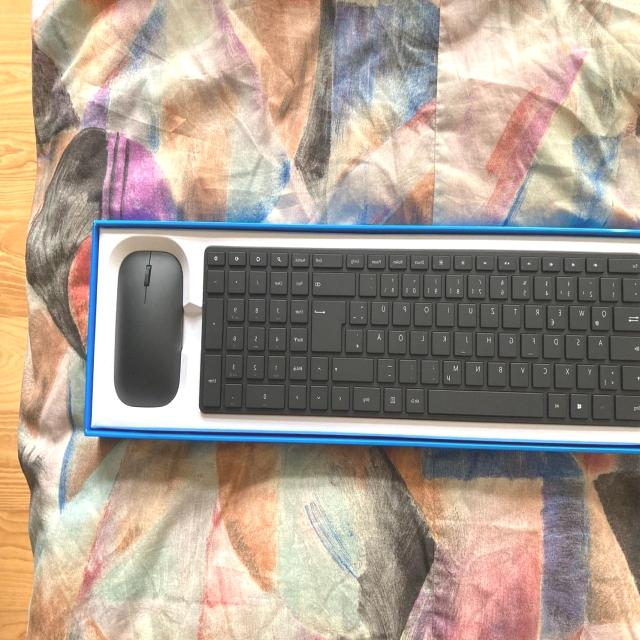0: (404, 271, 424, 296)
1: (602, 275, 622, 301)
2: (580, 275, 600, 300)
3: (558, 274, 578, 299)
4: (536, 274, 556, 298)
5: (514, 273, 534, 299)
6: (491, 272, 511, 297)
7: (469, 272, 489, 296)
8: (448, 271, 466, 297)
9: (426, 271, 445, 296)
a: (590, 332, 610, 358)
accent: (362, 270, 380, 295)
ae: (369, 327, 387, 352)
alt-left: (549, 390, 569, 417)
altgr-right: (407, 386, 427, 412)
b: (489, 359, 509, 385)
c: (534, 360, 554, 386)
caret: (625, 275, 640, 299)
comma: (423, 357, 442, 383)
d: (545, 331, 565, 357)
del: (314, 269, 358, 294)
e: (549, 302, 569, 328)
enter: (314, 297, 348, 351)
f: (523, 330, 543, 356)
g: (501, 330, 520, 356)
h: (478, 330, 497, 355)
hash: (347, 326, 365, 352)
i: (438, 300, 456, 325)
j: (456, 329, 475, 355)
k: (433, 328, 453, 354)
keyboard: (197, 238, 640, 432)
l: (412, 328, 430, 354)
less: (602, 362, 622, 388)
m: (445, 358, 465, 384)
minus: (379, 357, 398, 381)
n: (467, 358, 487, 384)
o: (416, 299, 435, 325)
oe: (390, 328, 409, 353)
p: (394, 298, 413, 324)
plus: (352, 299, 370, 324)
point: (401, 357, 420, 381)
q: (593, 303, 615, 329)
r: (527, 302, 547, 328)
s: (567, 332, 587, 358)
shift-left: (624, 363, 640, 389)
shift-lock: (612, 333, 640, 359)
shift-right: (334, 354, 376, 380)
space: (429, 388, 546, 416)
ss: (383, 271, 401, 295)
strg-left: (616, 392, 640, 420)
strg-right: (353, 385, 382, 411)
t: (505, 301, 524, 326)
tab: (616, 304, 640, 330)
u: (459, 300, 479, 326)
ue: (373, 298, 392, 324)
v: (512, 360, 531, 386)
w: (571, 302, 591, 329)
x: (557, 362, 577, 387)
y: (579, 361, 599, 387)
z: (482, 301, 502, 327)
